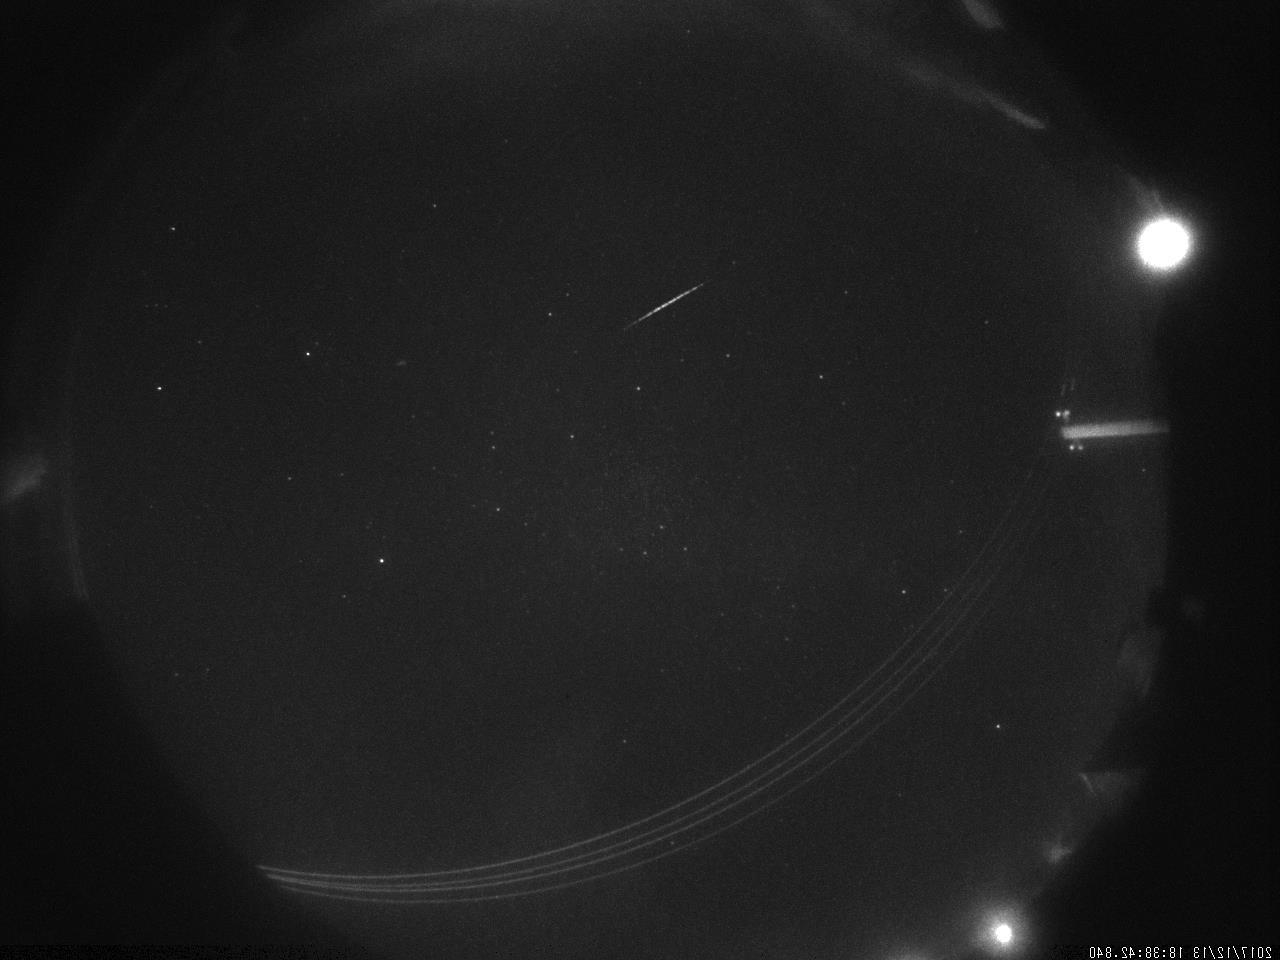meteor: (584, 259, 743, 348)
